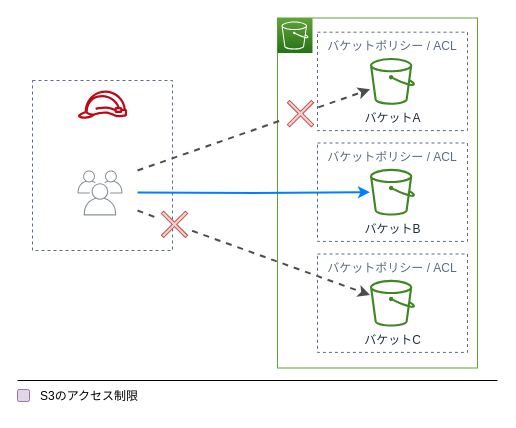
Image size: 516x428. Some labels were removed from this diagram. Each missing label, with the box of its shape:
IAM ポリシー: (77, 90, 127, 118)
S3: (276, 17, 312, 53)
users: (77, 170, 122, 215)
